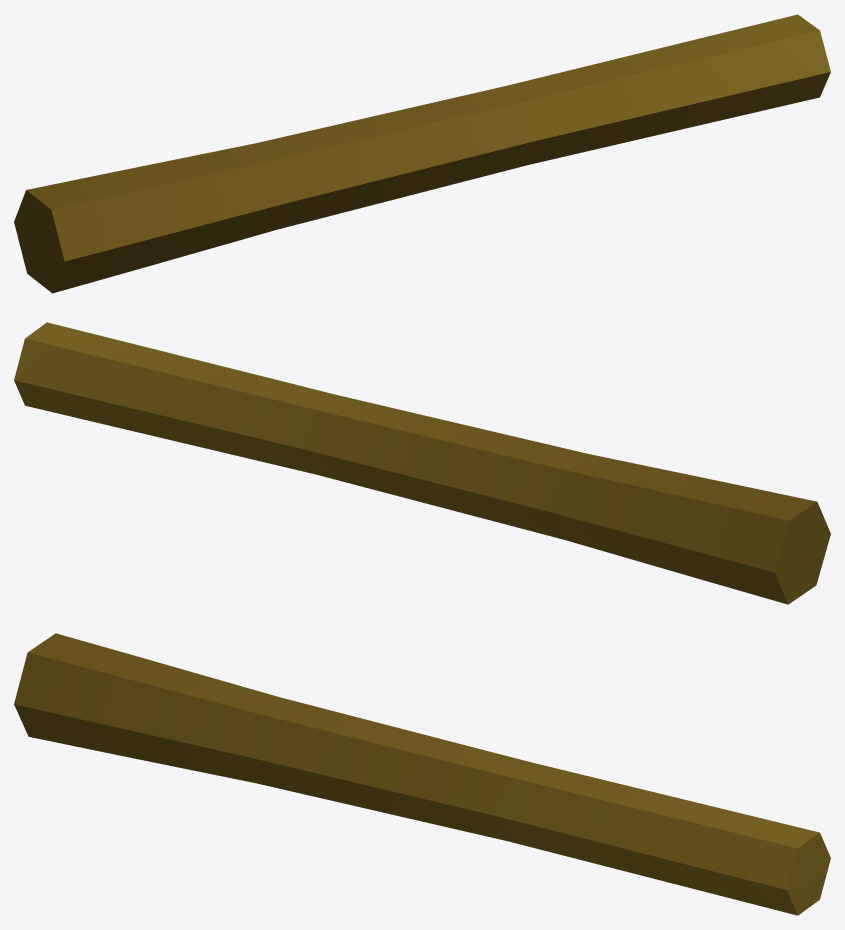
File: stick_2.fbx
The picture shows the model from 3 angles, top to bottom: view 1: azimuth 30°, elevation 25°; view 2: azimuth 150°, elevation 25°; view 3: azimuth 330°, elevation 25°; orthographic projection.
Parts seen in each view (by area): view 1: stick_2; view 2: stick_2; view 3: stick_2.
Part boxes in pixels (x1,y1,x2,y2): stick_2: [14, 14, 830, 293]; stick_2: [14, 322, 830, 604]; stick_2: [14, 633, 830, 915].
Size of the model in its own units: 1.02 by 0.1063 by 0.1227.
